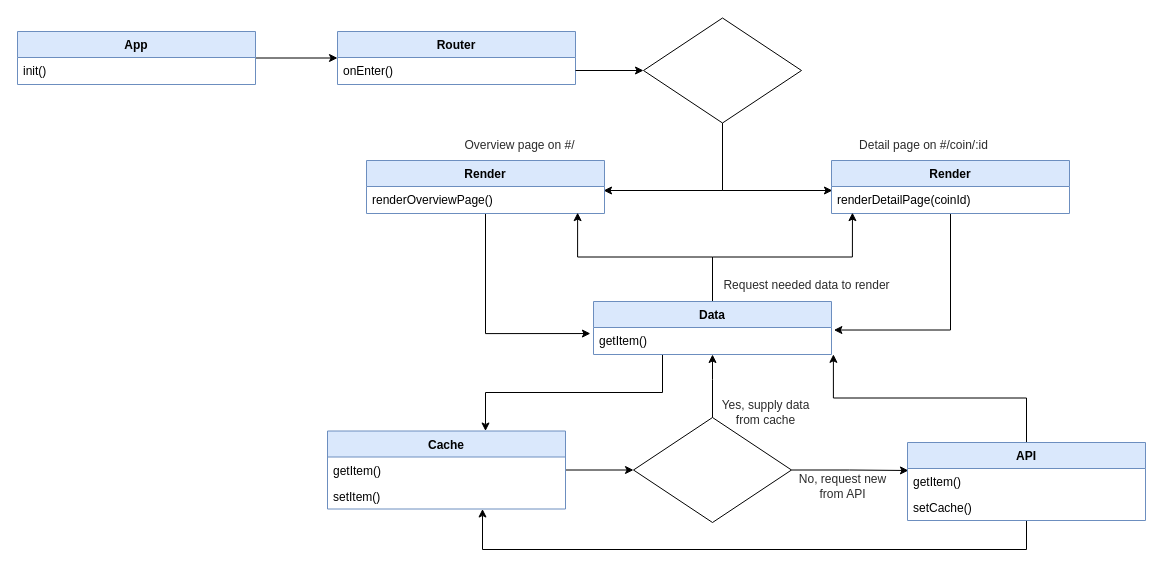
Some shapes in this 1163 by 575 pixel diagram are drawn without their labels. The shapes that lost their labels are listed below. From the top down, each one's centre as x and y in pixels, then its label:
At point 722,70: "Which page is being requested?".
At point 712,469: "Valid data in cache?".
